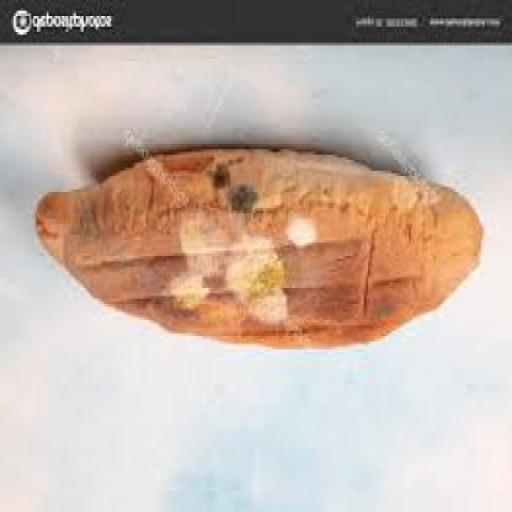biodegradable: (33, 153, 483, 352)
